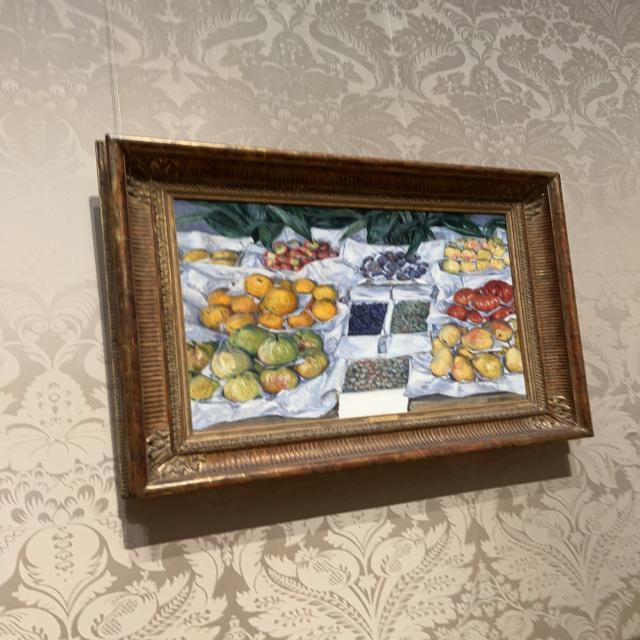fruits: (178, 204, 523, 429)
